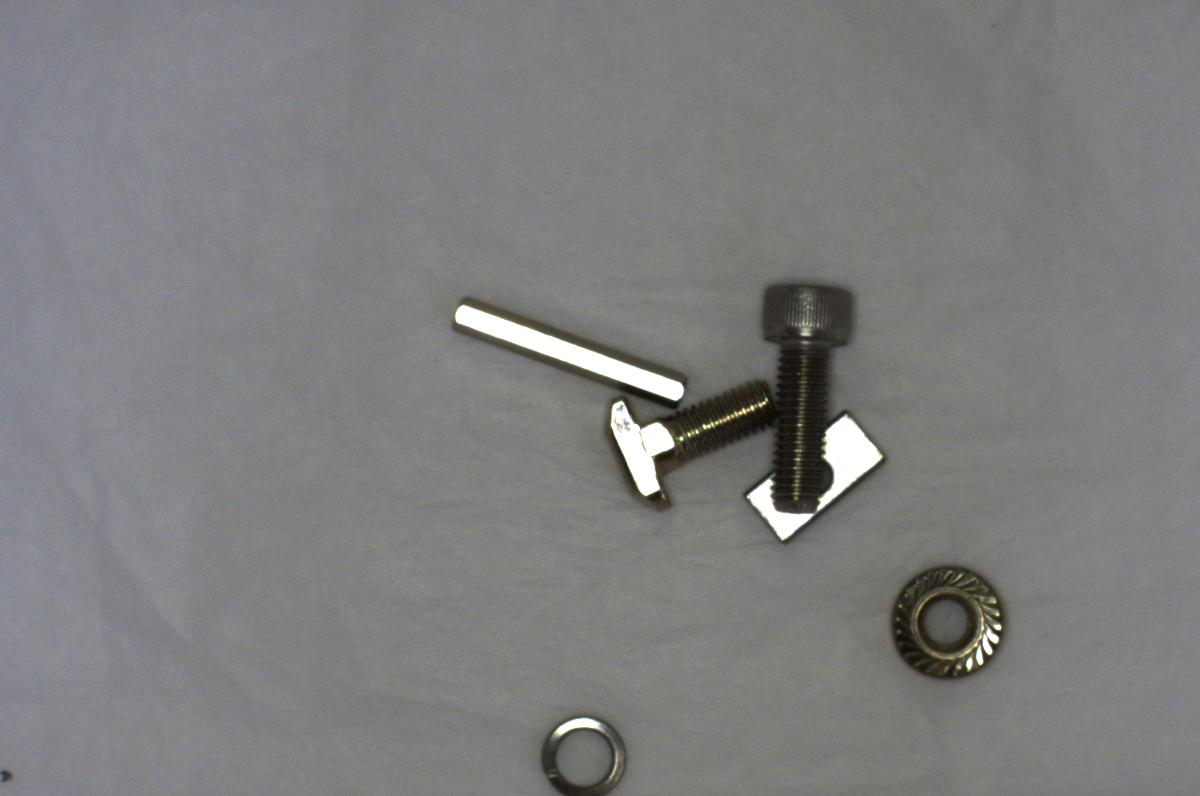Double hexagonal column: (441, 294, 688, 412)
Flange nut: (876, 558, 1014, 685)
Hexagon screw: (750, 267, 853, 510)
Rectangular nut: (750, 412, 892, 540)
Spring washer: (529, 706, 644, 790)
T-shaped screw: (601, 374, 773, 514)
